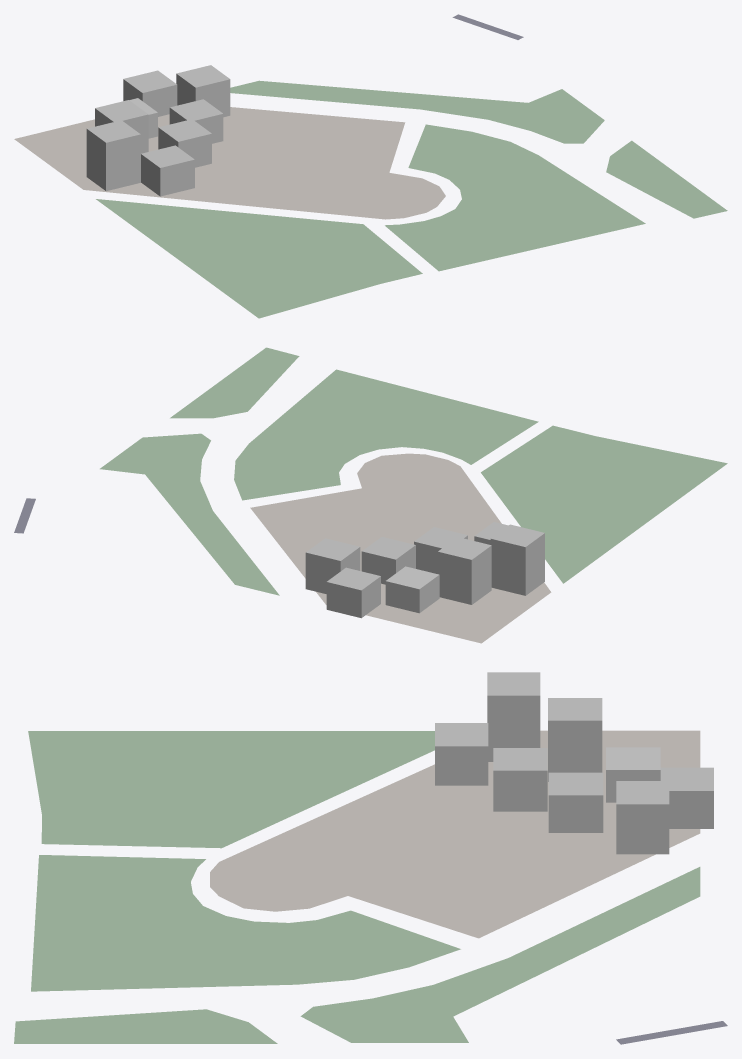
Rendered from 142_107_mid.glb.
3 views of the same model, one above another, from view 1: azimuth 30°, elevation 25°; view 2: azimuth 150°, elevation 25°; view 3: azimuth 270°, elevation 25° (orthographic). The views are drawn at different scales.
Size of the model in its own units: 519 by 53.07 by 486.
